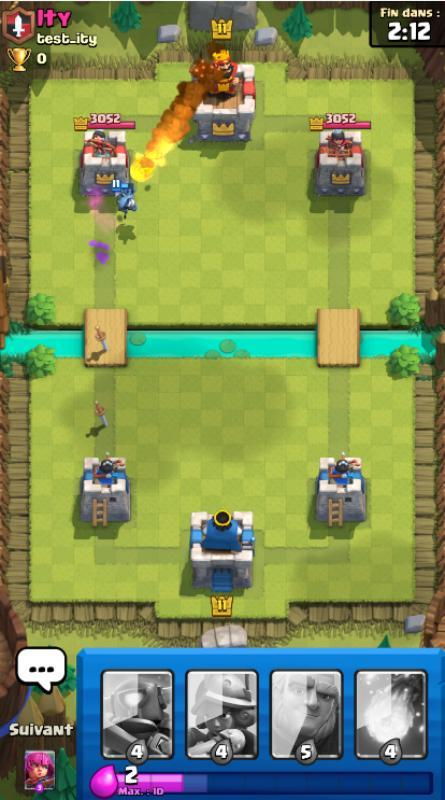gargouille: (111, 180, 137, 220)
